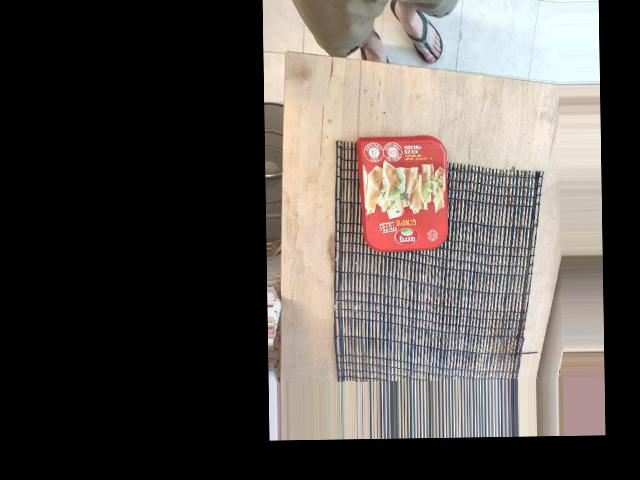cheese: (407, 176, 528, 272)
